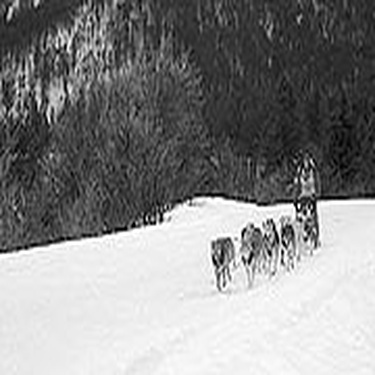dog: (205, 236, 238, 292), (243, 225, 267, 289), (262, 214, 281, 279), (284, 224, 303, 272), (238, 217, 259, 251), (275, 211, 292, 230)
